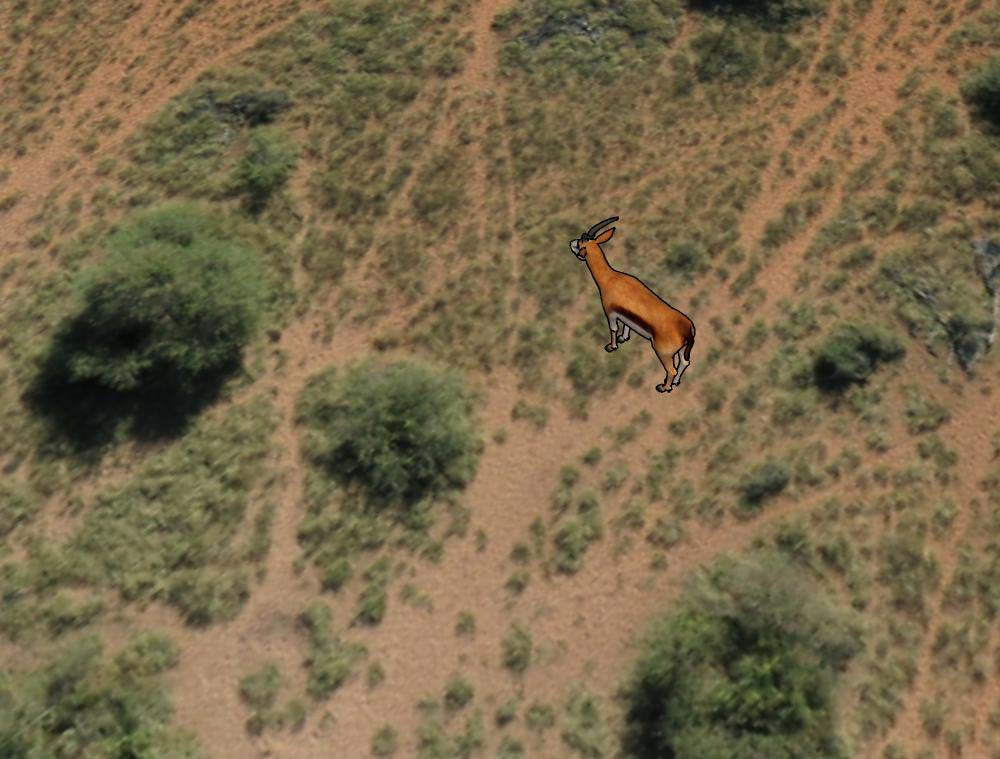springbok: (563, 213, 698, 396)
